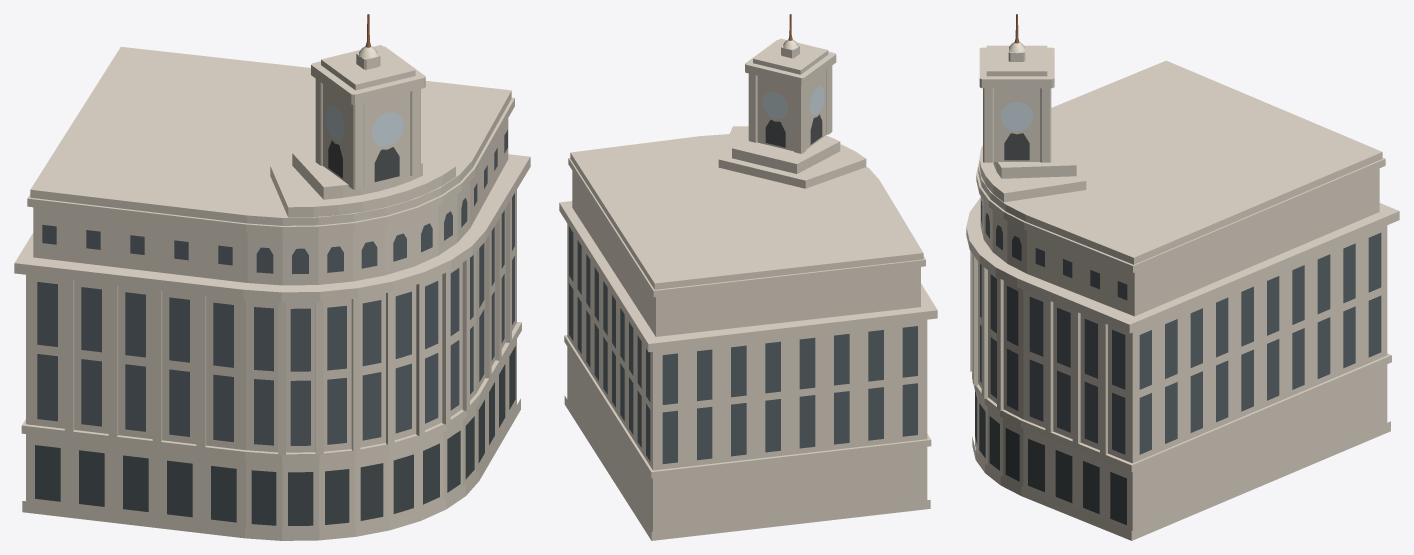
File: tokyo-wako.glb
The picture shows the model from 3 angles, left to right: view 1: azimuth 30°, elevation 25°; view 2: azimuth 150°, elevation 25°; view 3: azimuth 270°, elevation 25°; orthographic projection. The views are drawn at different scales.
Visible parts, largest first — view 1: Wako; view 2: Wako; view 3: Wako.
Boxes of the visible parts, x1,y1,x2,y2 form: Wako: [14, 14, 530, 540]; Wako: [559, 14, 937, 540]; Wako: [966, 14, 1399, 540].
Size of the model in its own units: 45.42 by 43.4 by 39.32.
